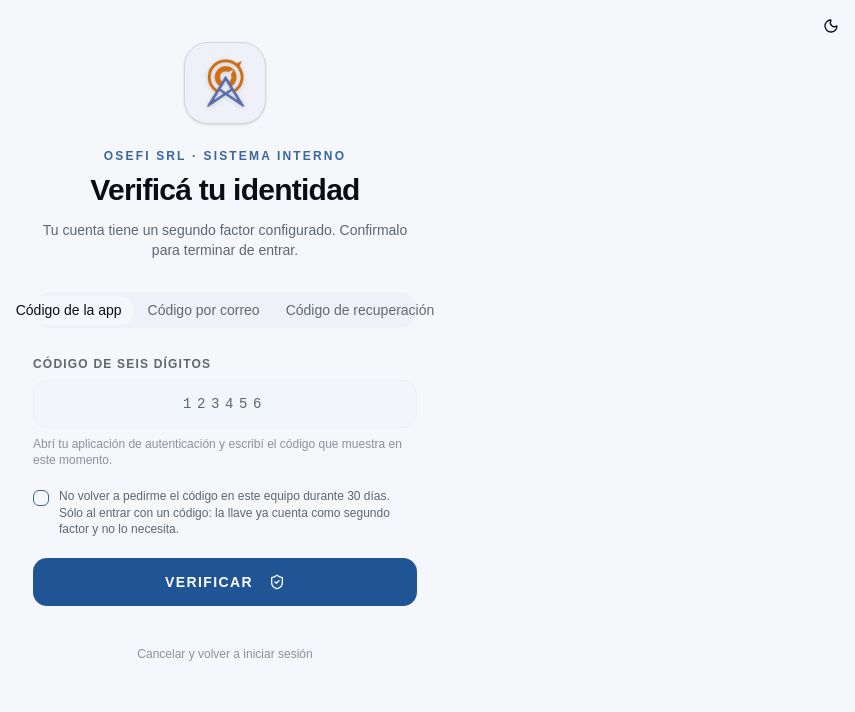
the email tab (plan 4E) › does not name an address that is saved but not verified — no code will go there
Click the tab "Código por correo".
click(204, 310)  # box [135,295,273,326]
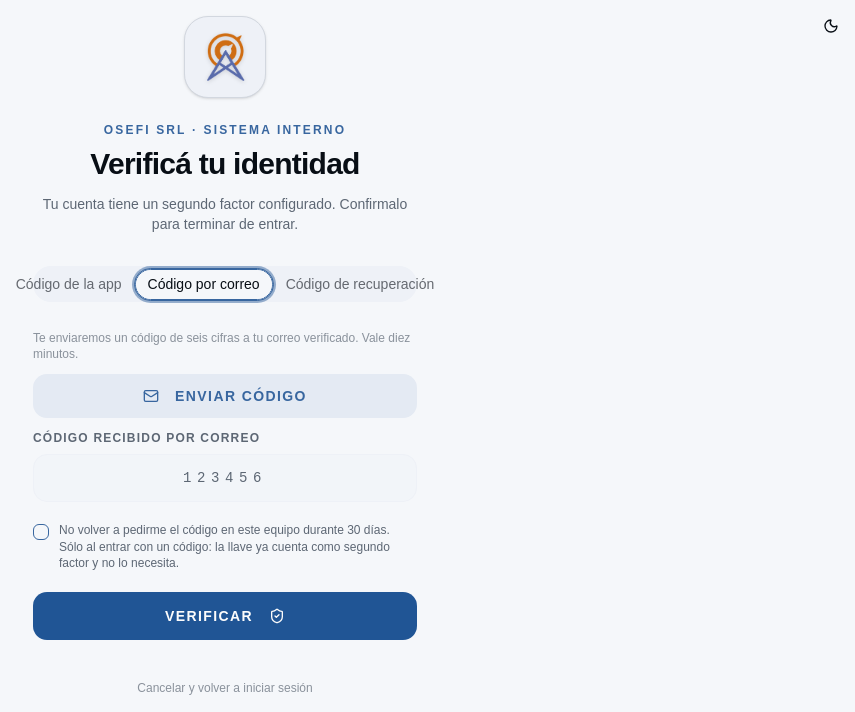
Result: the text "a tu correo verificado" is shown at [33,331,410,361]
